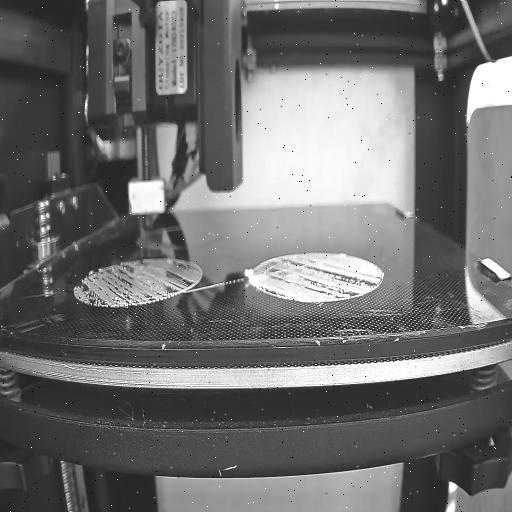under_extrusion: (256, 256, 384, 302), (76, 262, 148, 312), (163, 258, 203, 299)
